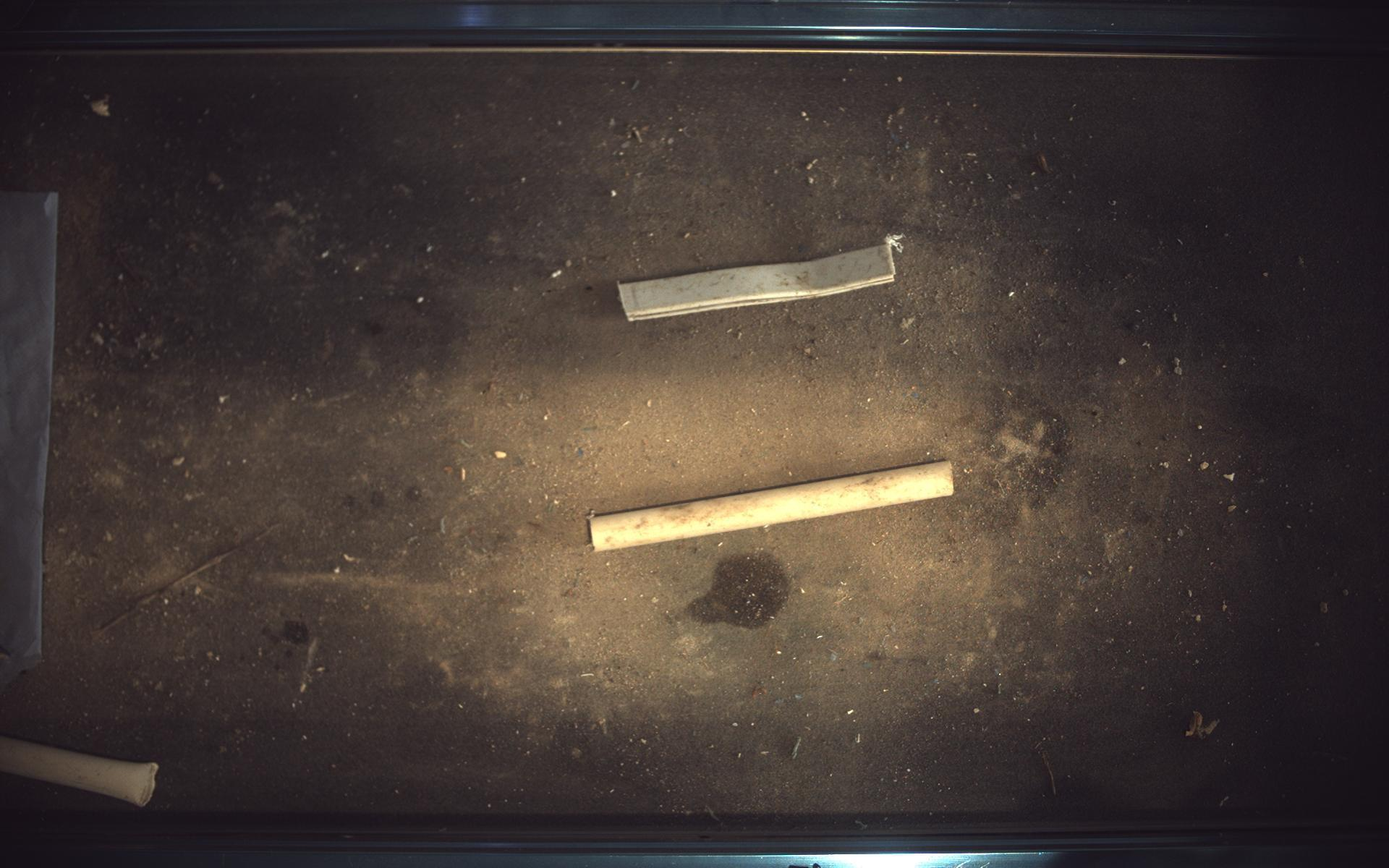pipes: (590, 461, 956, 552), (1, 738, 158, 808)
plastic: (619, 242, 897, 321)
